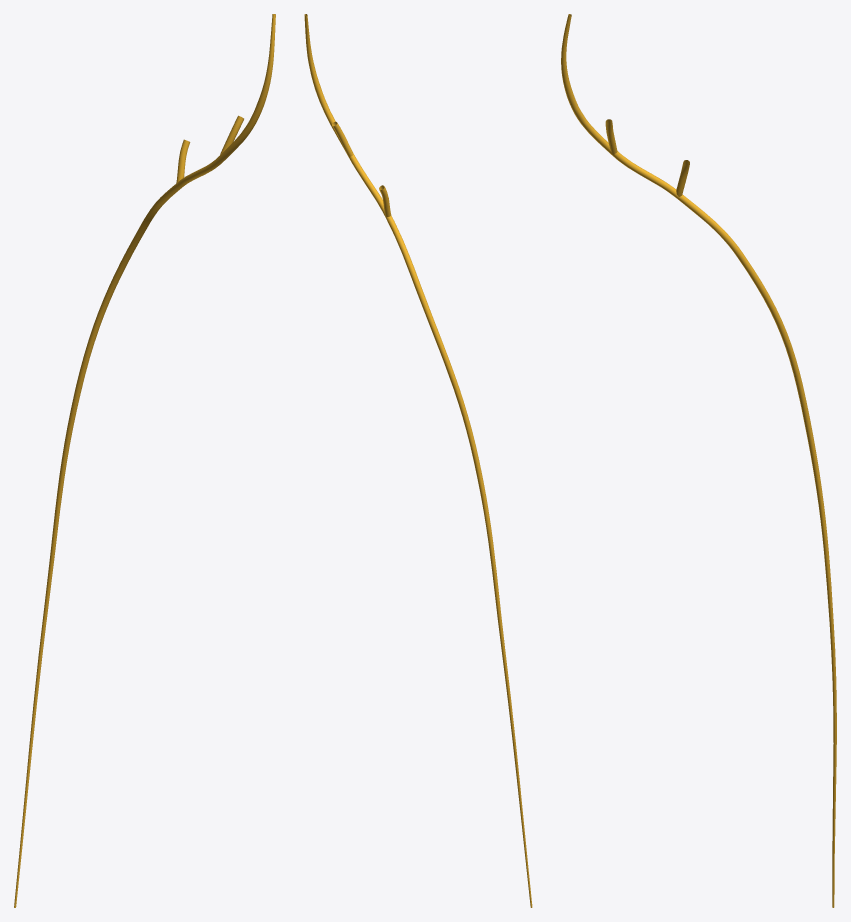
The model's file is nervoso-posterior-femoral-cutaneous-nerve-r.glb.
3 renders of one model, left to right at view 1: azimuth 30°, elevation 25°; view 2: azimuth 210°, elevation 25°; view 3: azimuth 270°, elevation 25°, orthographic. The views are drawn at different scales.
Visible parts, largest first — view 1: Posterior femoral cutaneous nerve.r; view 2: Posterior femoral cutaneous nerve.r; view 3: Posterior femoral cutaneous nerve.r.
Boxes of the visible parts, left/top/right/bottom form: Posterior femoral cutaneous nerve.r: left=14, top=14, right=275, bottom=907; Posterior femoral cutaneous nerve.r: left=304, top=14, right=532, bottom=907; Posterior femoral cutaneous nerve.r: left=561, top=14, right=836, bottom=907.
Size of the model in its own units: 0.0418 by 0.297 by 0.0778.
